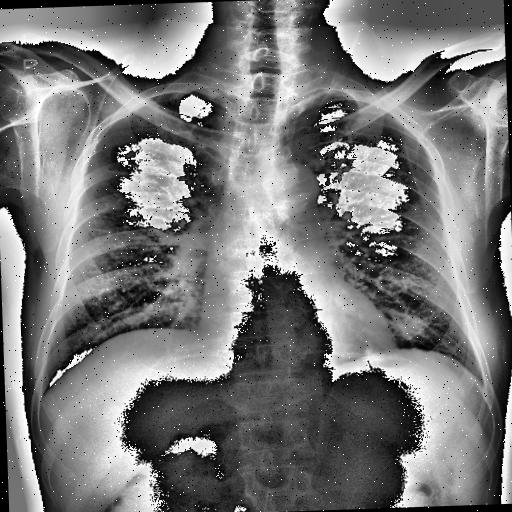0- Aortic enlargement: (262, 157, 320, 218)
11- Pleural thickening: (308, 84, 365, 106)
13- Pulmonary fibrosis: (90, 149, 144, 185), (98, 148, 142, 180), (104, 166, 144, 184)
8- Nodule-Mass: (126, 150, 138, 158)
